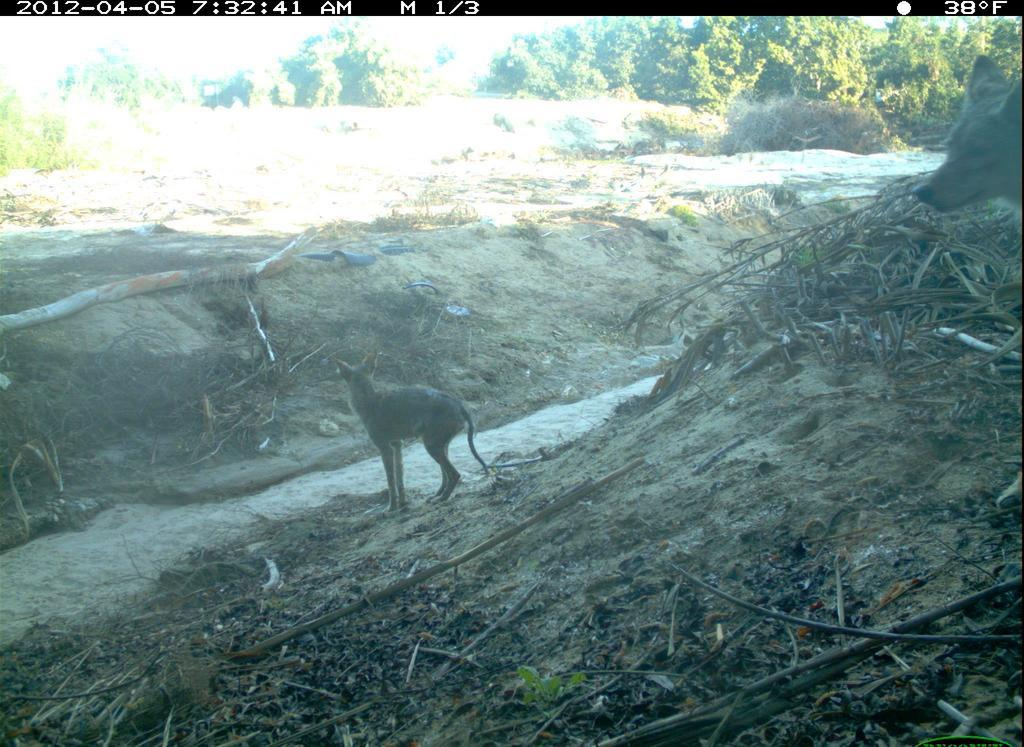coyote: (332, 347, 496, 520)
